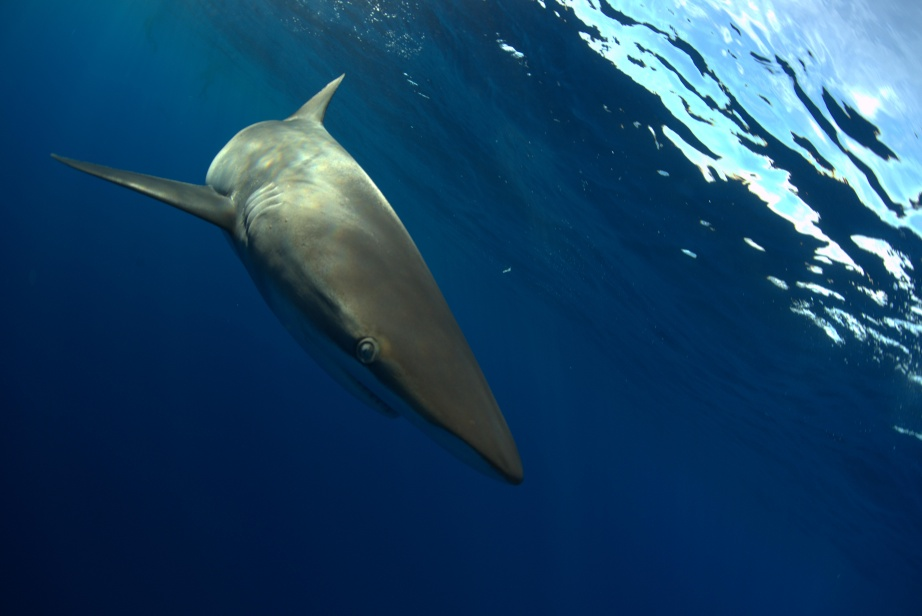Sedoso: (48, 52, 535, 490)
